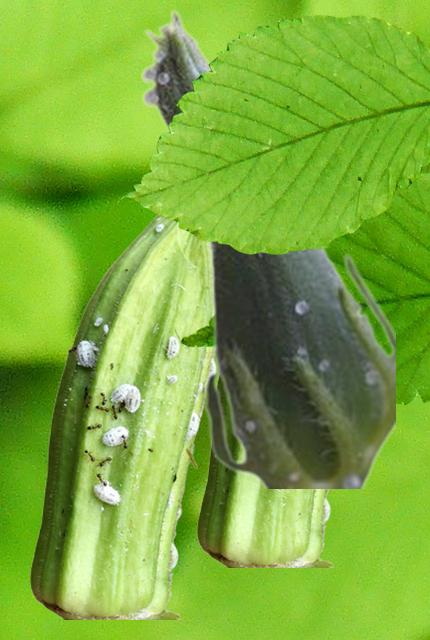okra: (139, 9, 394, 487), (30, 214, 213, 618), (197, 380, 335, 566)
